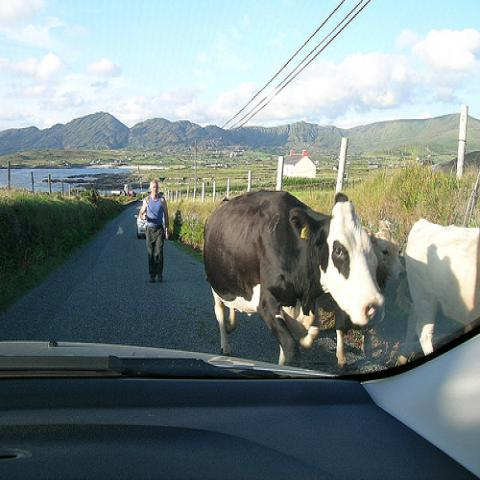car: (2, 324, 479, 475), (134, 208, 146, 238)
